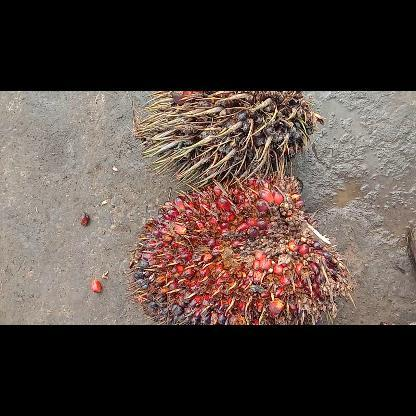TBS abnormal: (134, 91, 323, 183)
TBS masak: (126, 175, 353, 323)
